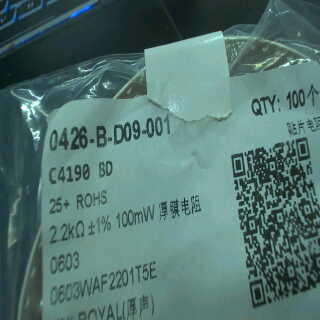2.2kR: (45, 219, 87, 246)
